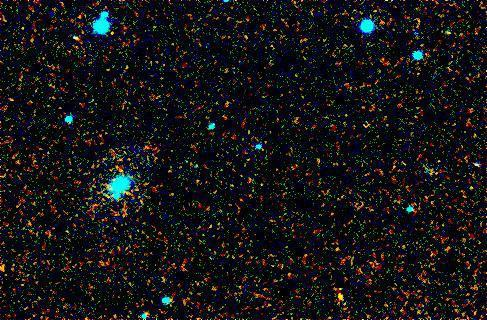star: (325, 281, 355, 311)
